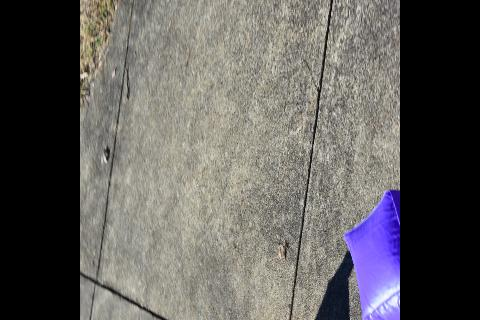cube: (342, 188, 399, 320)
